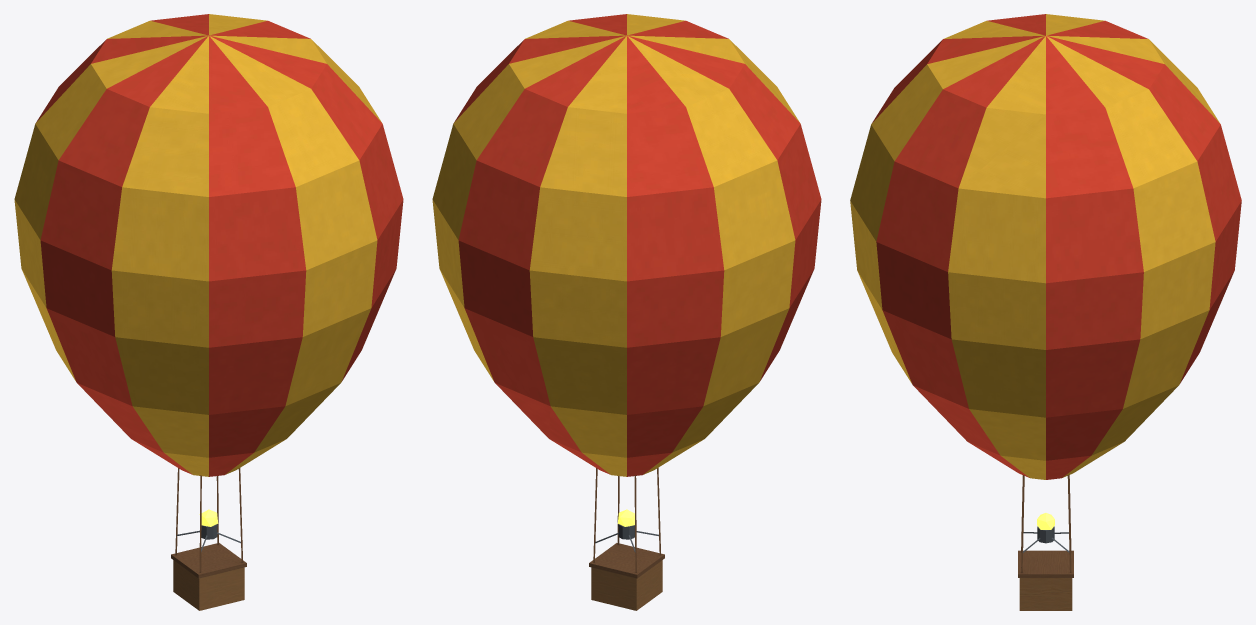
The model's file is ballong_1_tex.glb.
3 views of the same model, side by side, from view 1: azimuth 30°, elevation 25°; view 2: azimuth 150°, elevation 25°; view 3: azimuth 270°, elevation 25° (orthographic).
Parts seen in each view (by area): view 1: ballong_1; view 2: ballong_1; view 3: ballong_1.
Boxes of the visible parts, x1,y1,x2,y2 form: ballong_1: (14,14,403,610); ballong_1: (432,14,821,610); ballong_1: (850,14,1241,610).
Size of the model in its own units: 11.2 by 17.8 by 11.2.
6 materials, 4 textured.
